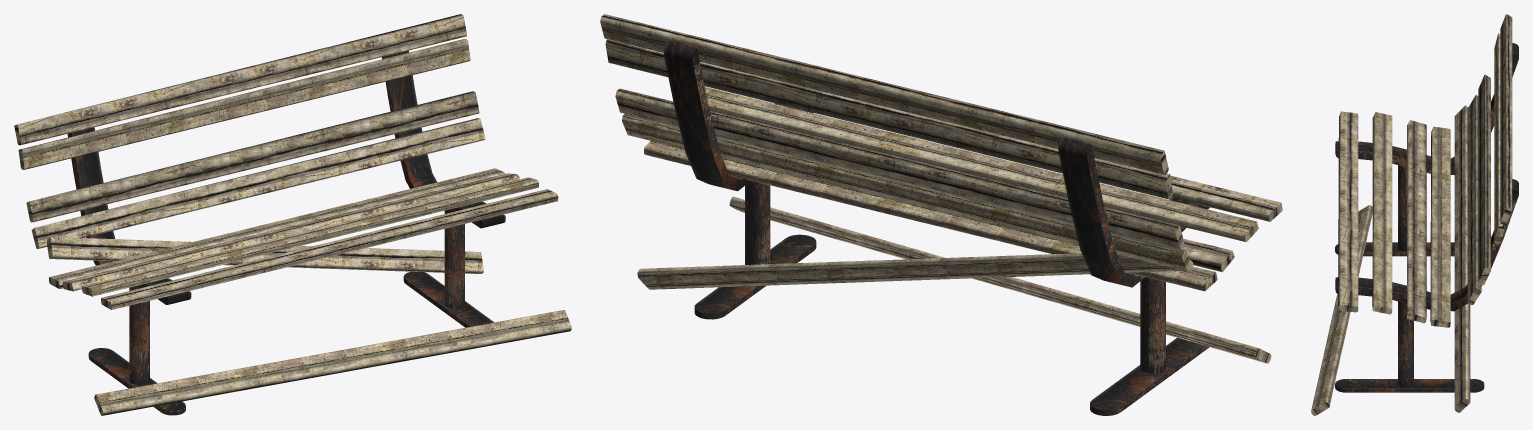
File: Bench03.fbx
3 views of the same model, side by side, from view 1: azimuth 30°, elevation 25°; view 2: azimuth 150°, elevation 25°; view 3: azimuth 270°, elevation 25° (orthographic). The views are drawn at different scales.
Parts seen in each view (by area): view 1: Bench3; view 2: Bench3; view 3: Bench3.
Part boxes in pixels (x1=…): Bench3: x1=14, y1=14, x2=571, y2=415; Bench3: x1=600, y1=14, x2=1282, y2=415; Bench3: x1=1311, y1=14, x2=1518, y2=415.
Size of the model in its own units: 85.41 by 43.29 by 38.86.
